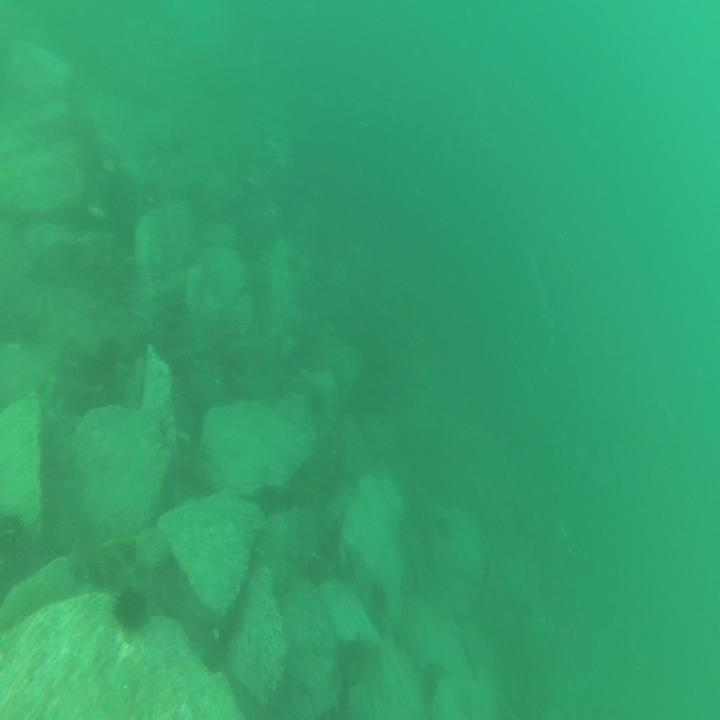echinus: (110, 580, 150, 635), (370, 578, 388, 612), (435, 514, 451, 542)
